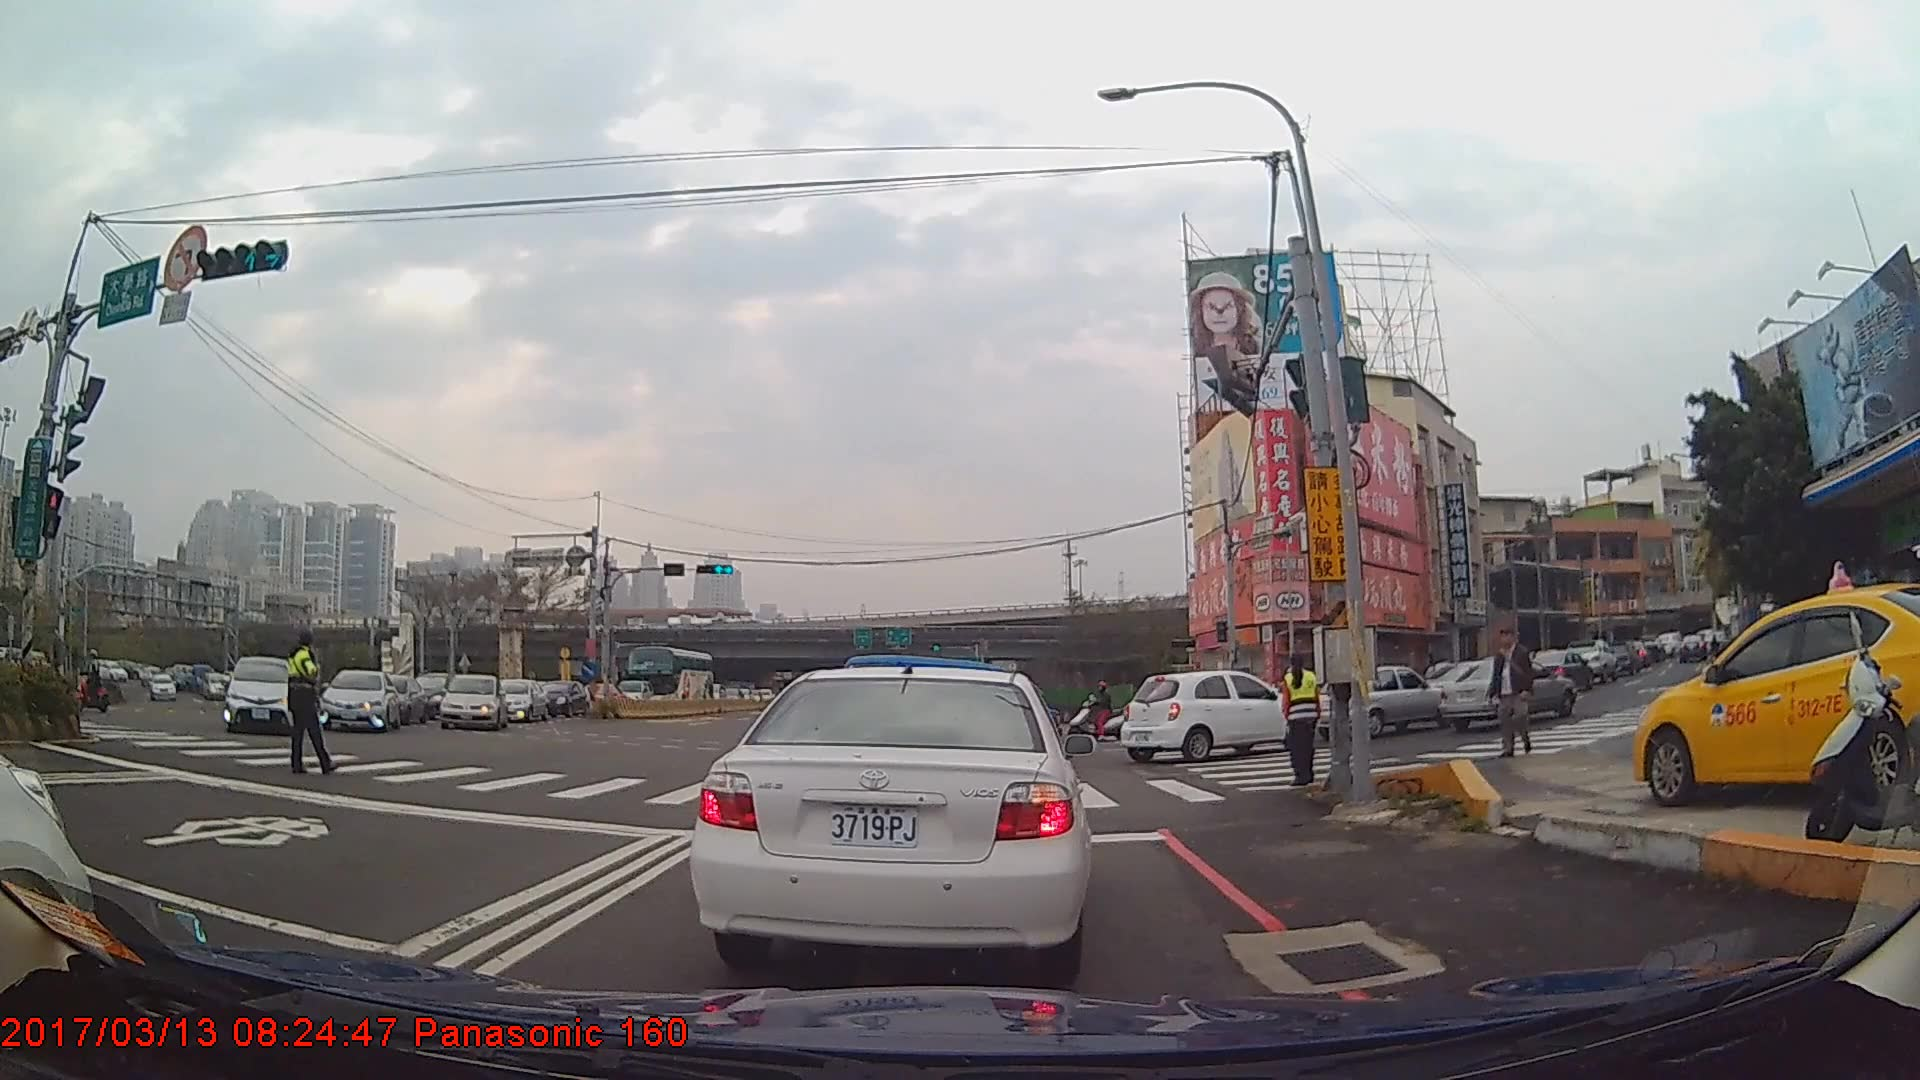pedestrian: (1278, 651, 1328, 792), (288, 630, 334, 774), (1490, 626, 1537, 762)
rider: (1070, 682, 1132, 744), (76, 649, 110, 712)
vehicle: (689, 665, 1089, 989), (1635, 579, 1918, 807), (1120, 667, 1300, 764), (1436, 656, 1573, 731), (1320, 664, 1448, 737), (225, 652, 297, 734), (625, 644, 714, 707), (321, 667, 402, 730), (438, 672, 508, 730), (1531, 648, 1593, 690), (496, 677, 548, 721), (536, 677, 591, 719), (1675, 633, 1705, 663)
